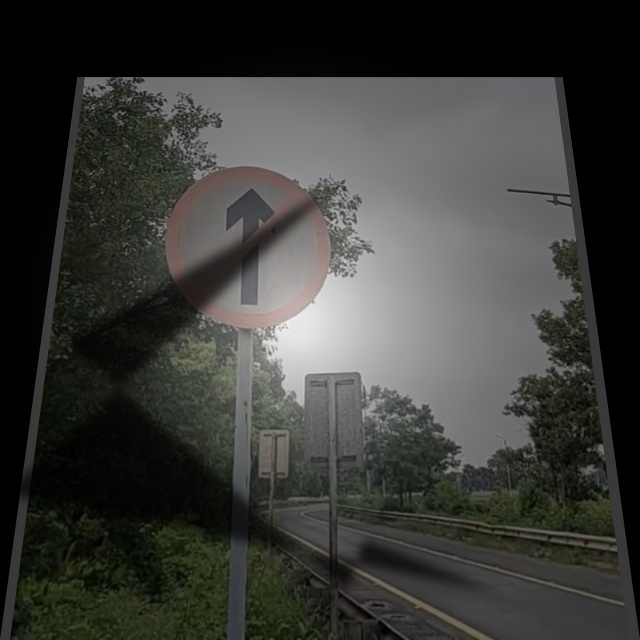No_Entry: (158, 169, 330, 326)
